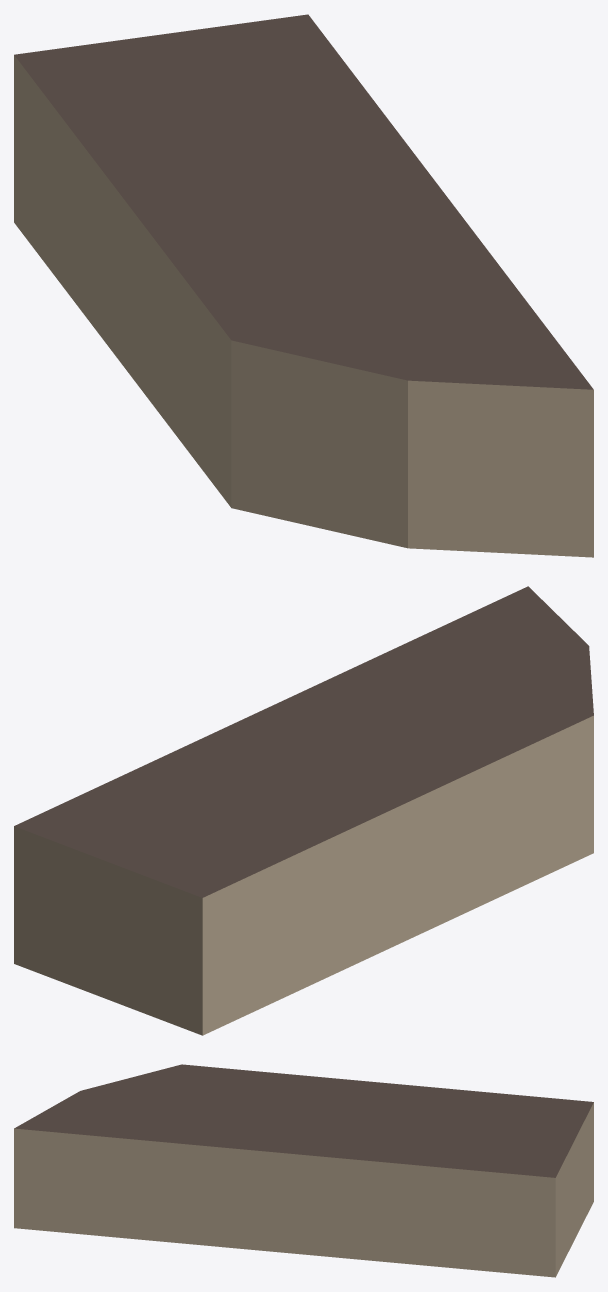
The picture shows the model from 3 angles, top to bottom: view 1: azimuth 30°, elevation 25°; view 2: azimuth 150°, elevation 25°; view 3: azimuth 270°, elevation 25°; orthographic projection. The views are drawn at different scales.
Parts seen in each view (by area): view 1: HP-w859488856; view 2: HP-w859488856; view 3: HP-w859488856.
Boxes of the visible parts, x1,y1,x2,y2 form: HP-w859488856: (14, 14, 593, 557); HP-w859488856: (14, 586, 593, 1035); HP-w859488856: (14, 1064, 593, 1277).
Size of the model in its own units: 21.99 by 9 by 47.49.
